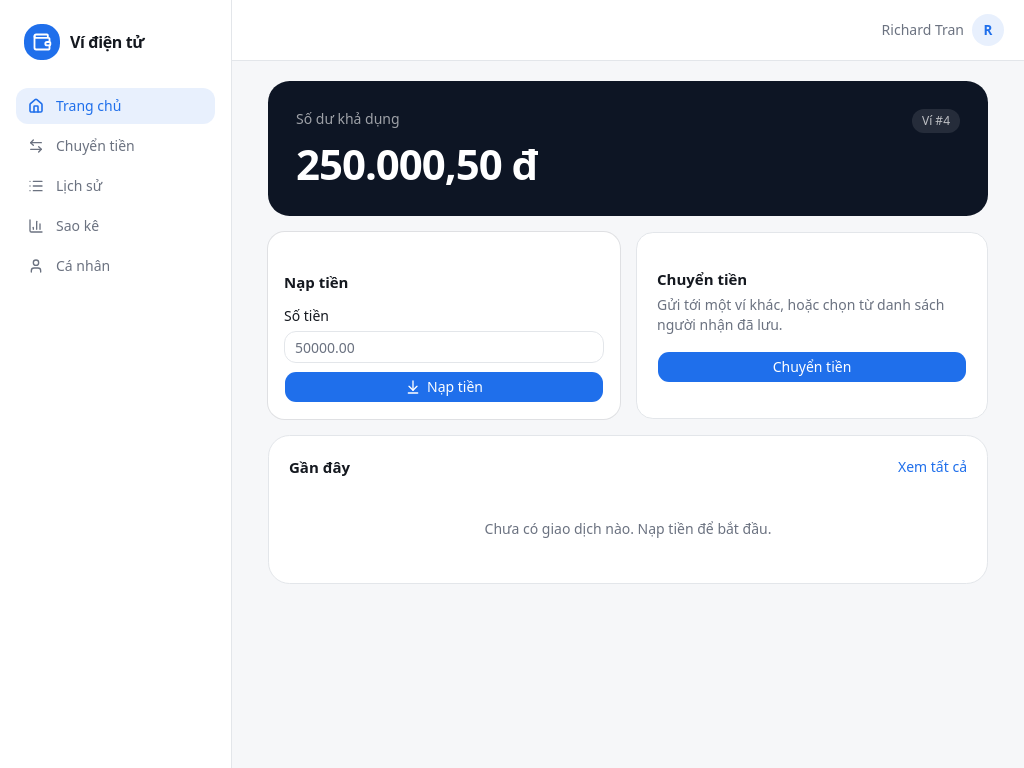
Test: dang xuat › bam dang xuat thi ve man dang nhap va xoa token
This screenshot has width=1024, height=768.
Check: the text "250.000,50 đ" is shown, box x1=296 y1=135 x2=538 y2=192
What coordinates should you click on to do the following:
click the link "Cá nhân"
I would click on:
 (69, 266)
Its box is x1=28 y1=256 x2=110 y2=275.
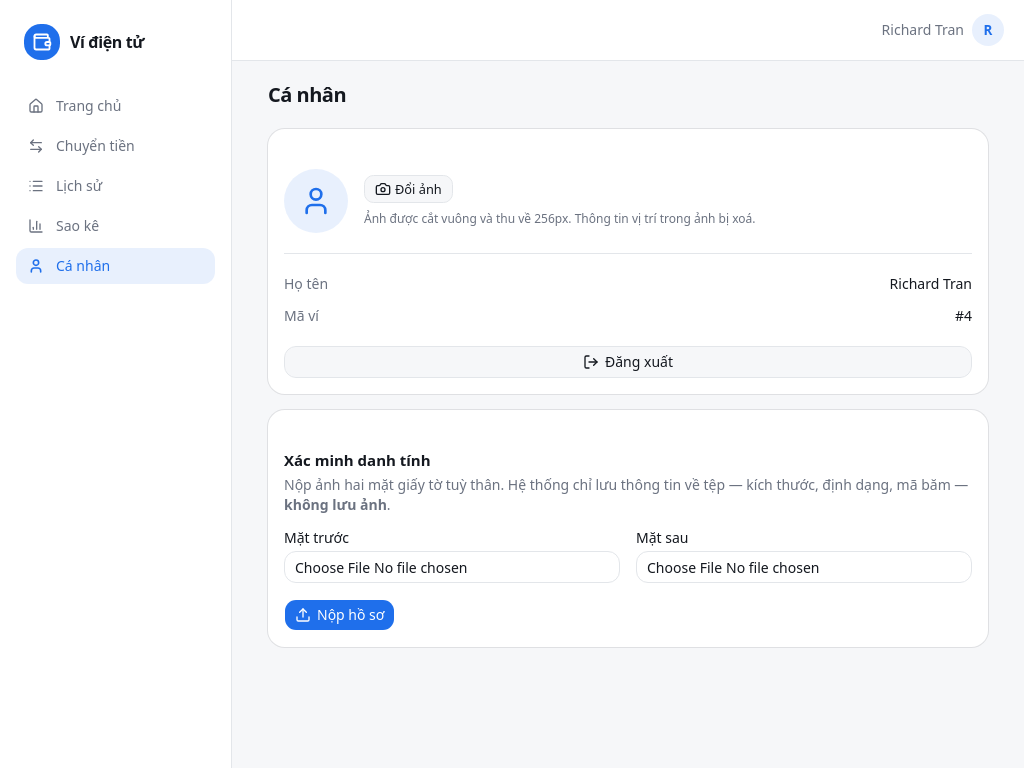
What coordinates should you click on to do the following:
click the button "Đăng xuất"
I would click on:
 (628, 362)
Its box is x1=284 y1=346 x2=972 y2=378.
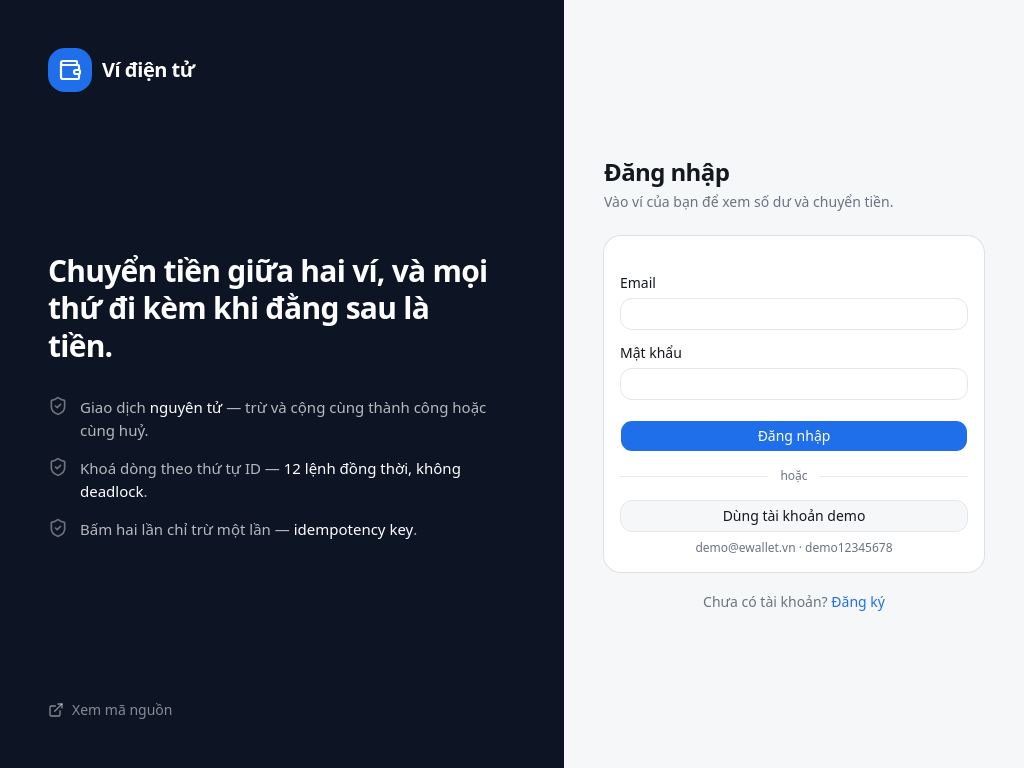
Check: the heading "Đăng nhập" is shown, box x1=604 y1=155 x2=729 y2=188
